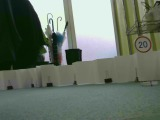speed_20: (132, 35, 154, 54)
